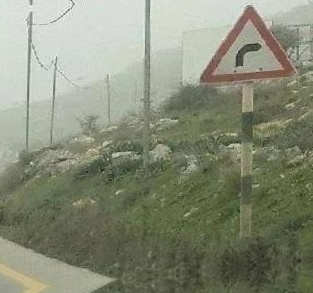Turn right: (195, 0, 299, 83)
